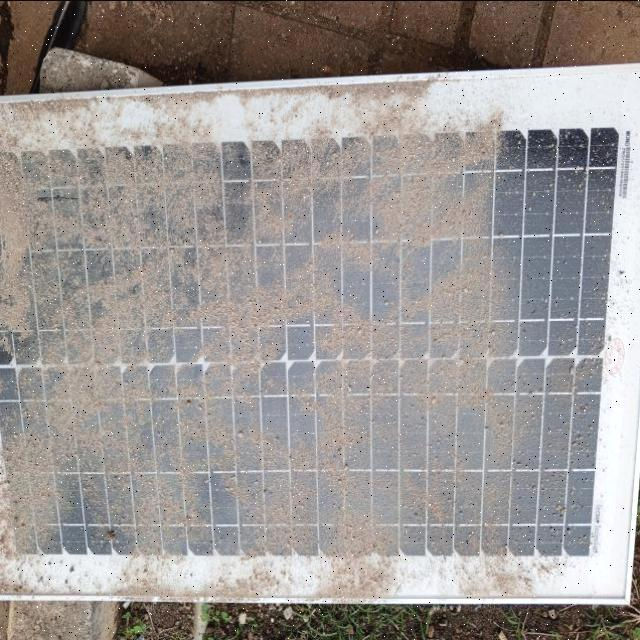Anomaly Solar Panel: (0, 114, 629, 562)
Surface Contaminant: (0, 90, 578, 578)
